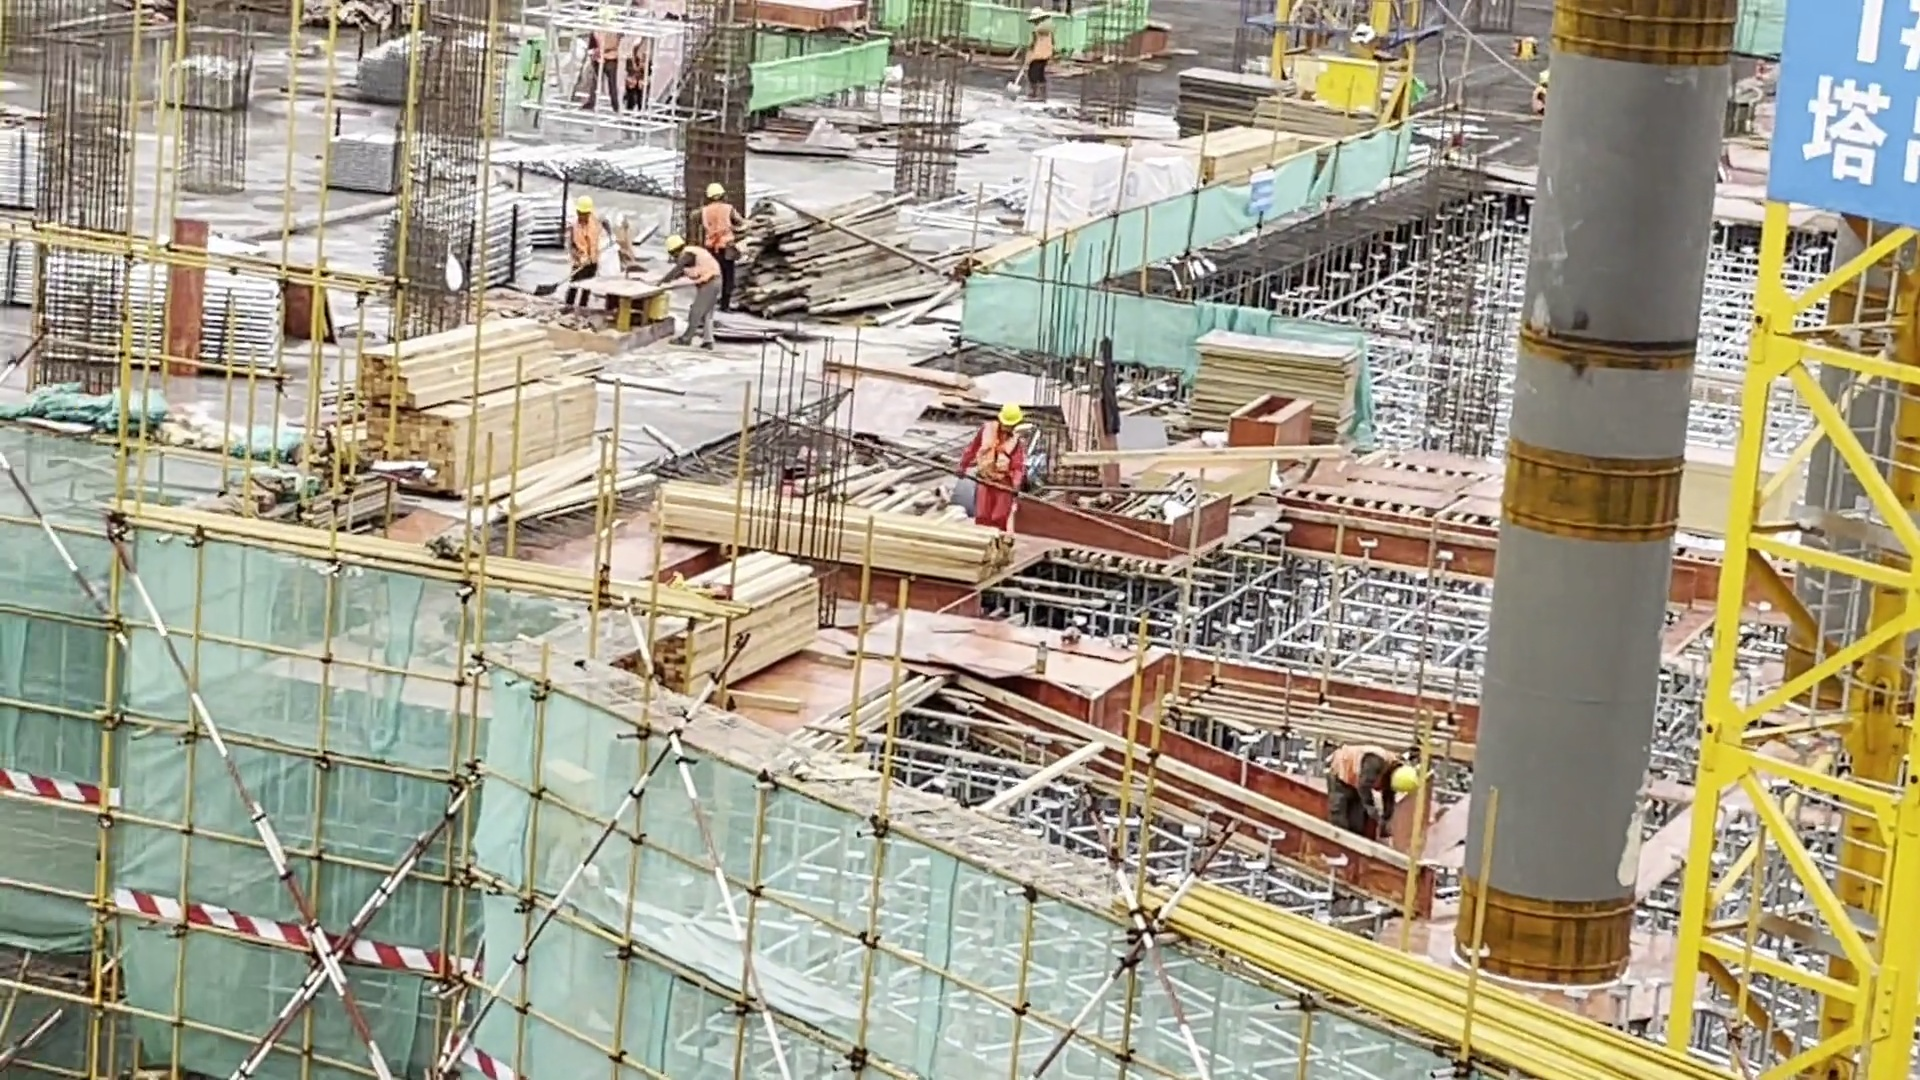helmet: (1385, 749, 1421, 798), (697, 172, 741, 208), (986, 390, 1027, 429), (664, 231, 699, 268), (1026, 1, 1056, 37), (564, 186, 596, 219)
person: (1321, 727, 1405, 863), (963, 396, 1039, 529), (655, 238, 723, 363), (691, 178, 759, 296), (1011, 14, 1070, 99), (557, 196, 601, 300), (583, 2, 624, 112)
scaffold: (1, 227, 286, 380), (380, 205, 540, 295), (1, 105, 130, 198), (531, 136, 688, 199), (351, 37, 490, 94), (318, 135, 404, 197)
vest: (1328, 745, 1384, 789), (975, 430, 1015, 486), (678, 246, 715, 296), (566, 217, 601, 259), (587, 32, 623, 71), (707, 197, 737, 238), (1035, 27, 1052, 59)
wood: (360, 333, 592, 481), (663, 485, 1012, 583), (641, 552, 819, 678)
